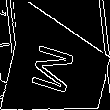M_E: (32, 40, 85, 98)
